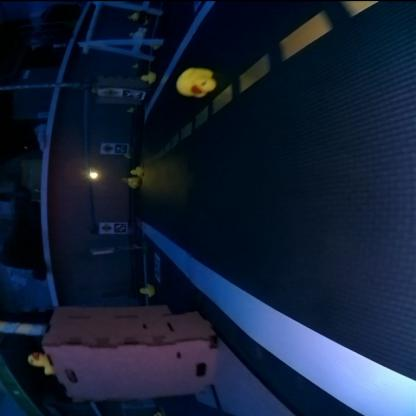Duckie: (175, 67, 213, 97), (29, 352, 52, 374), (139, 283, 153, 297), (140, 72, 156, 84), (129, 166, 142, 176), (126, 107, 134, 112)
Intersection sign: (100, 90, 118, 96), (101, 144, 112, 152)
QR code: (122, 90, 143, 100), (152, 256, 160, 282), (115, 144, 127, 152), (112, 224, 124, 232)
Signal sign: (100, 224, 112, 233)
Traffic light: (88, 170, 99, 178)
